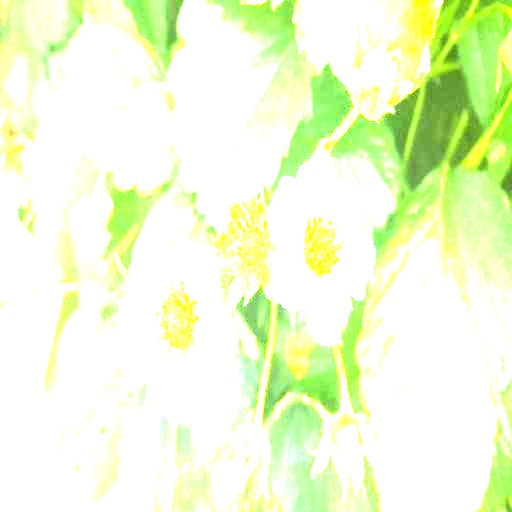Blossom Blight: (148, 278, 206, 370), (300, 199, 350, 282), (228, 205, 272, 270)
